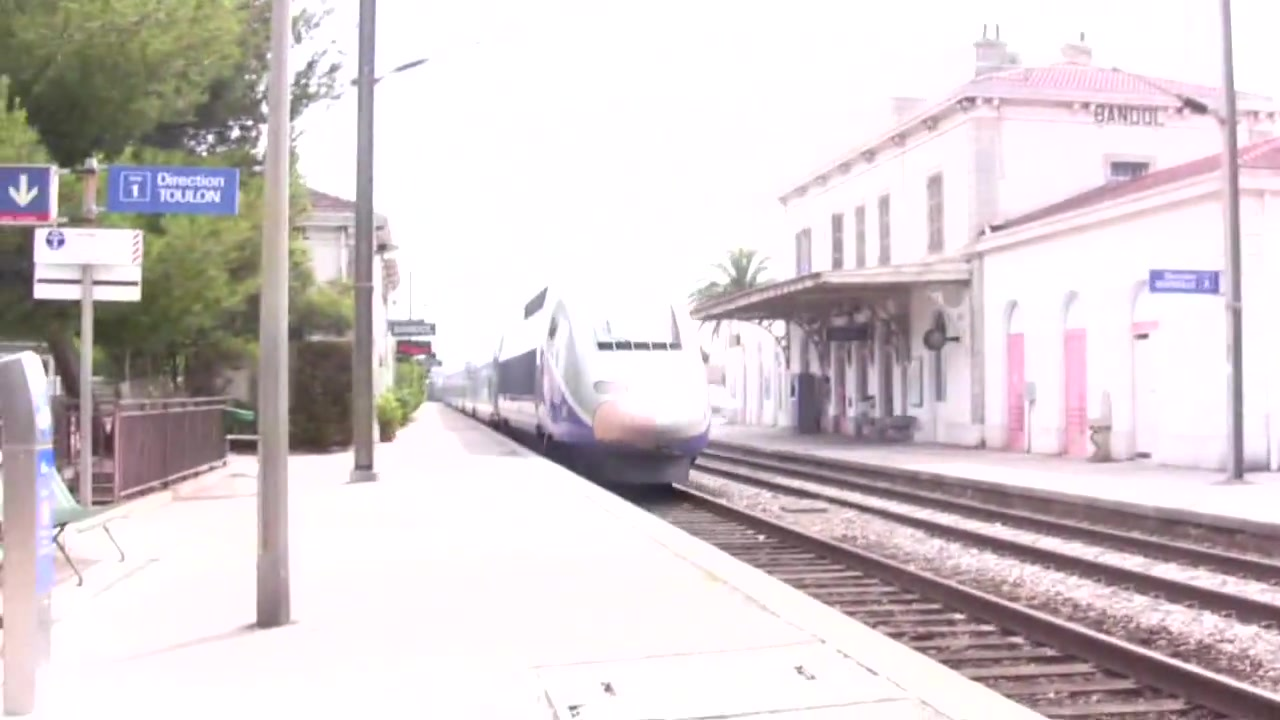train: (425, 278, 717, 494)
